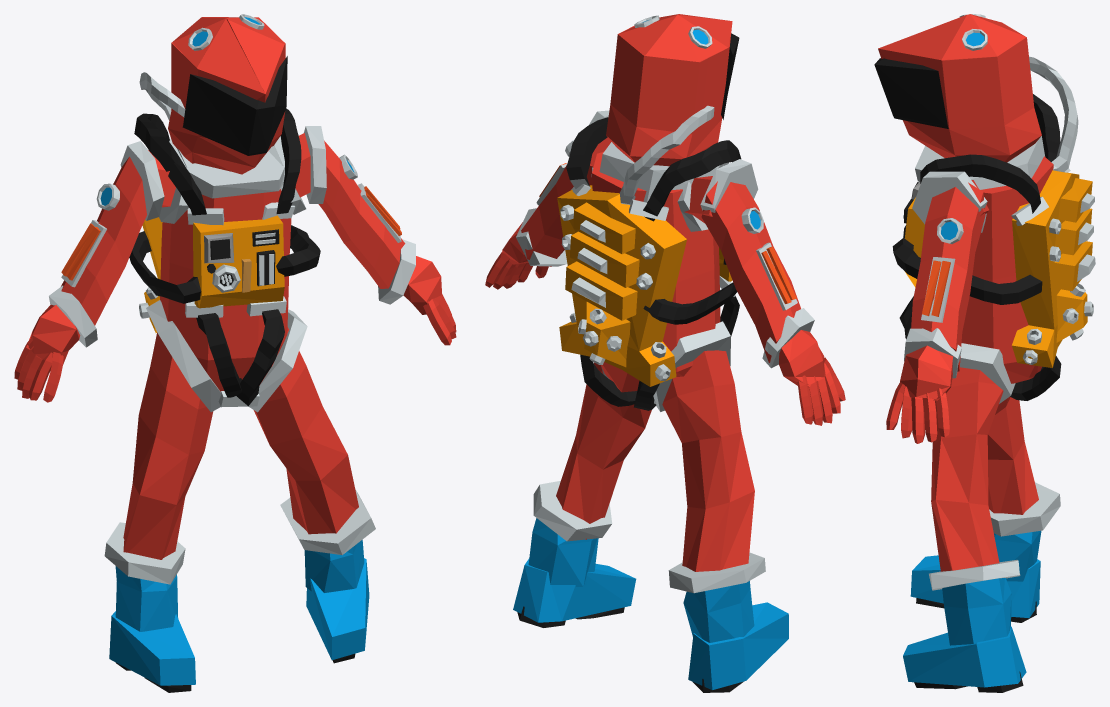
File: Vintage Space Suit.glb
3 views of the same model, side by side, from view 1: azimuth 30°, elevation 25°; view 2: azimuth 150°, elevation 25°; view 3: azimuth 270°, elevation 25° (orthographic). The views are drawn at different scales.
Visible parts, largest first — view 1: group1858697474; view 2: group1858697474; view 3: group1858697474.
Boxes of the visible parts, left/top/right/bottom form: group1858697474: left=14, top=14, right=456, bottom=692; group1858697474: left=485, top=14, right=845, bottom=692; group1858697474: left=874, top=14, right=1095, bottom=692.
Size of the model in its own units: 4.78 by 7.62 by 2.43.
